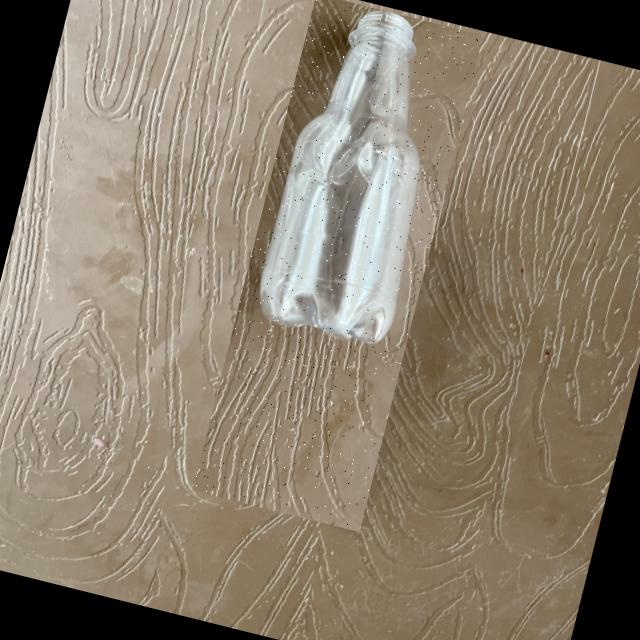PET_ClearBottle: (192, 0, 483, 531)
